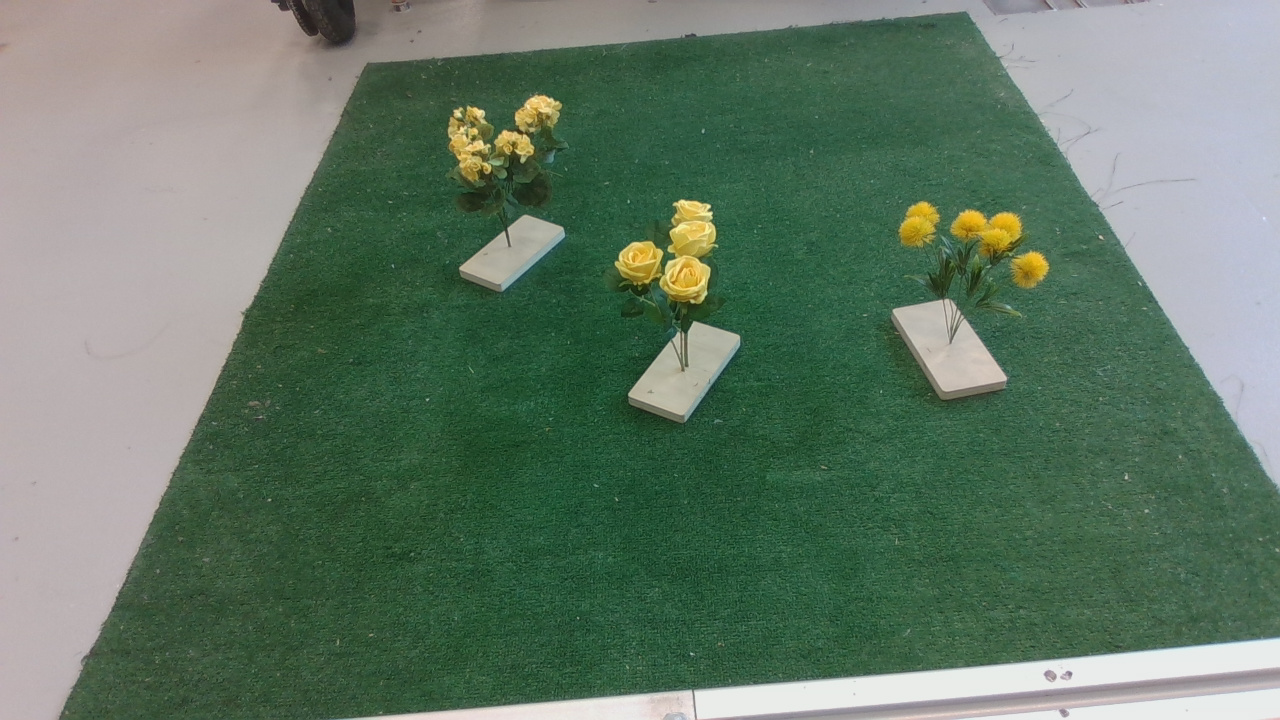dandelion: (891, 192, 1062, 334)
geranium: (446, 92, 582, 235)
rose: (615, 193, 728, 367)
